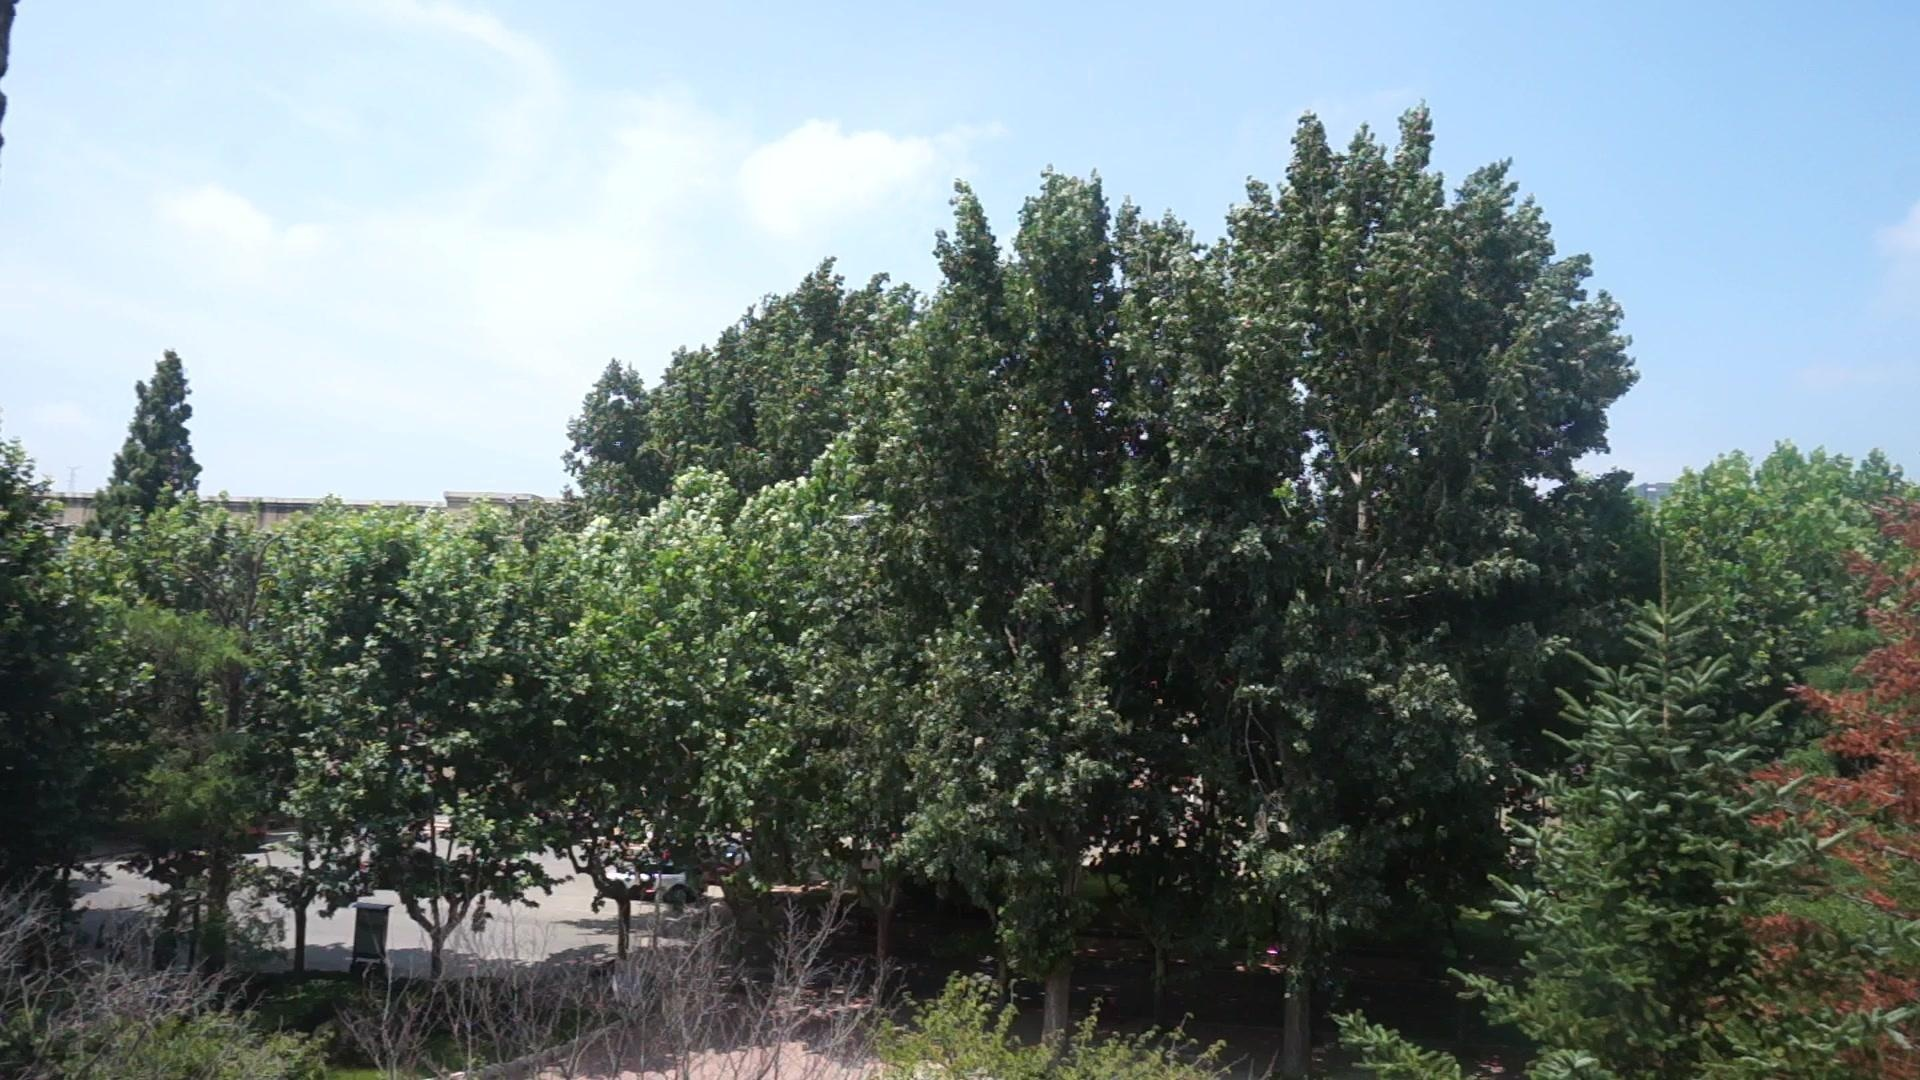UAV: (843, 516, 869, 527)
